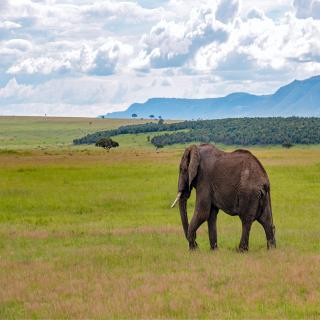Elephant: (170, 138, 283, 256)
